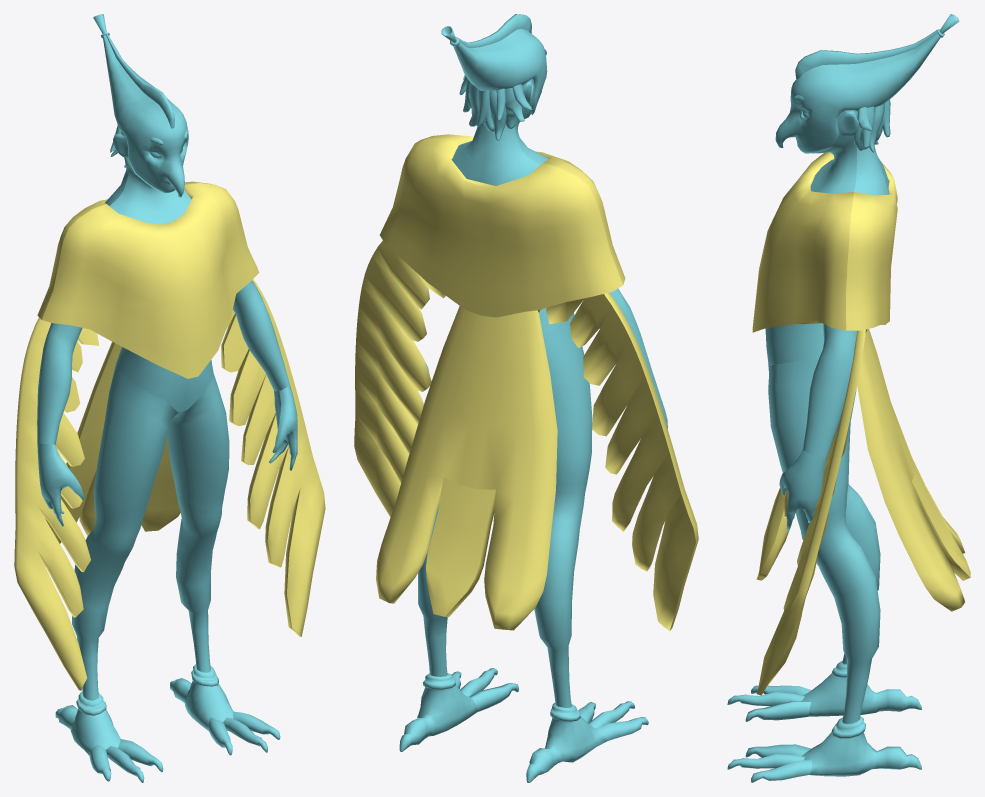
Rendered from CTS_C_Birdman01.fbx.
3 renders of one model, left to right at view 1: azimuth 30°, elevation 25°; view 2: azimuth 150°, elevation 25°; view 3: azimuth 270°, elevation 25°, orthographic. The views are drawn at different scales.
Parts seen in each view (by area): view 1: Birdman_Body_Low, Birdman_Wings_Low, Birdman_Poncho_Low, Birdman_Featherbelt_Low; view 2: Birdman_Featherbelt_Low, Birdman_Wings_Low, Birdman_Body_Low, Birdman_Poncho_Low, Birdman_Hair_Low; view 3: Birdman_Body_Low, Birdman_Poncho_Low, Birdman_Featherbelt_Low, Birdman_Wings_Low, Birdman_Hair_Low.
Part boxes in pixels (x1,y1,x2,y2): Birdman_Body_Low: (37,14,297,782); Birdman_Wings_Low: (14,279,325,690); Birdman_Poncho_Low: (37,181,259,378); Birdman_Featherbelt_Low: (45,341,180,543); Birdman_Featherbelt_Low: (376,306,557,630); Birdman_Wings_Low: (354,241,698,631); Birdman_Body_Low: (399,14,667,782); Birdman_Poncho_Low: (380,134,625,317); Birdman_Hair_Low: (459,76,532,140); Birdman_Body_Low: (727,14,959,782); Birdman_Poncho_Low: (752,152,897,332); Birdman_Featherbelt_Low: (795,321,970,611); Birdman_Wings_Low: (756,329,867,695); Birdman_Hair_Low: (854,99,890,152).
Bounding box in the file's own units: 94.34 × 200 × 60.76.
